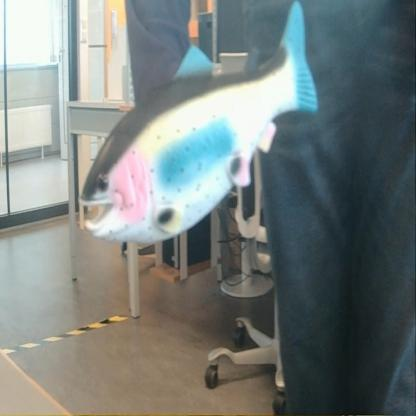rubberfish: (77, 0, 321, 250)
